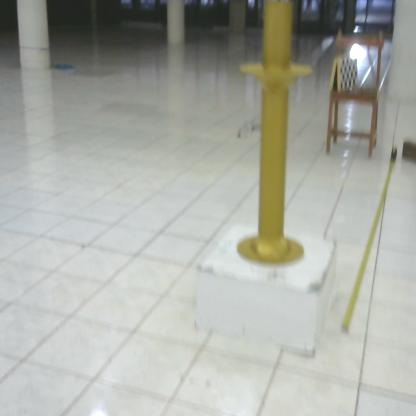pole: (229, 1, 318, 270)
